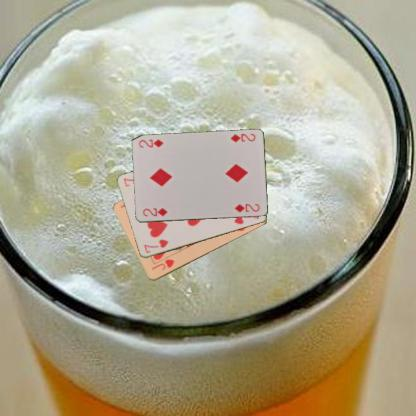2d: (140, 206, 169, 218), (228, 131, 256, 143)
7h: (140, 237, 169, 254)
Jh: (149, 256, 176, 272)
